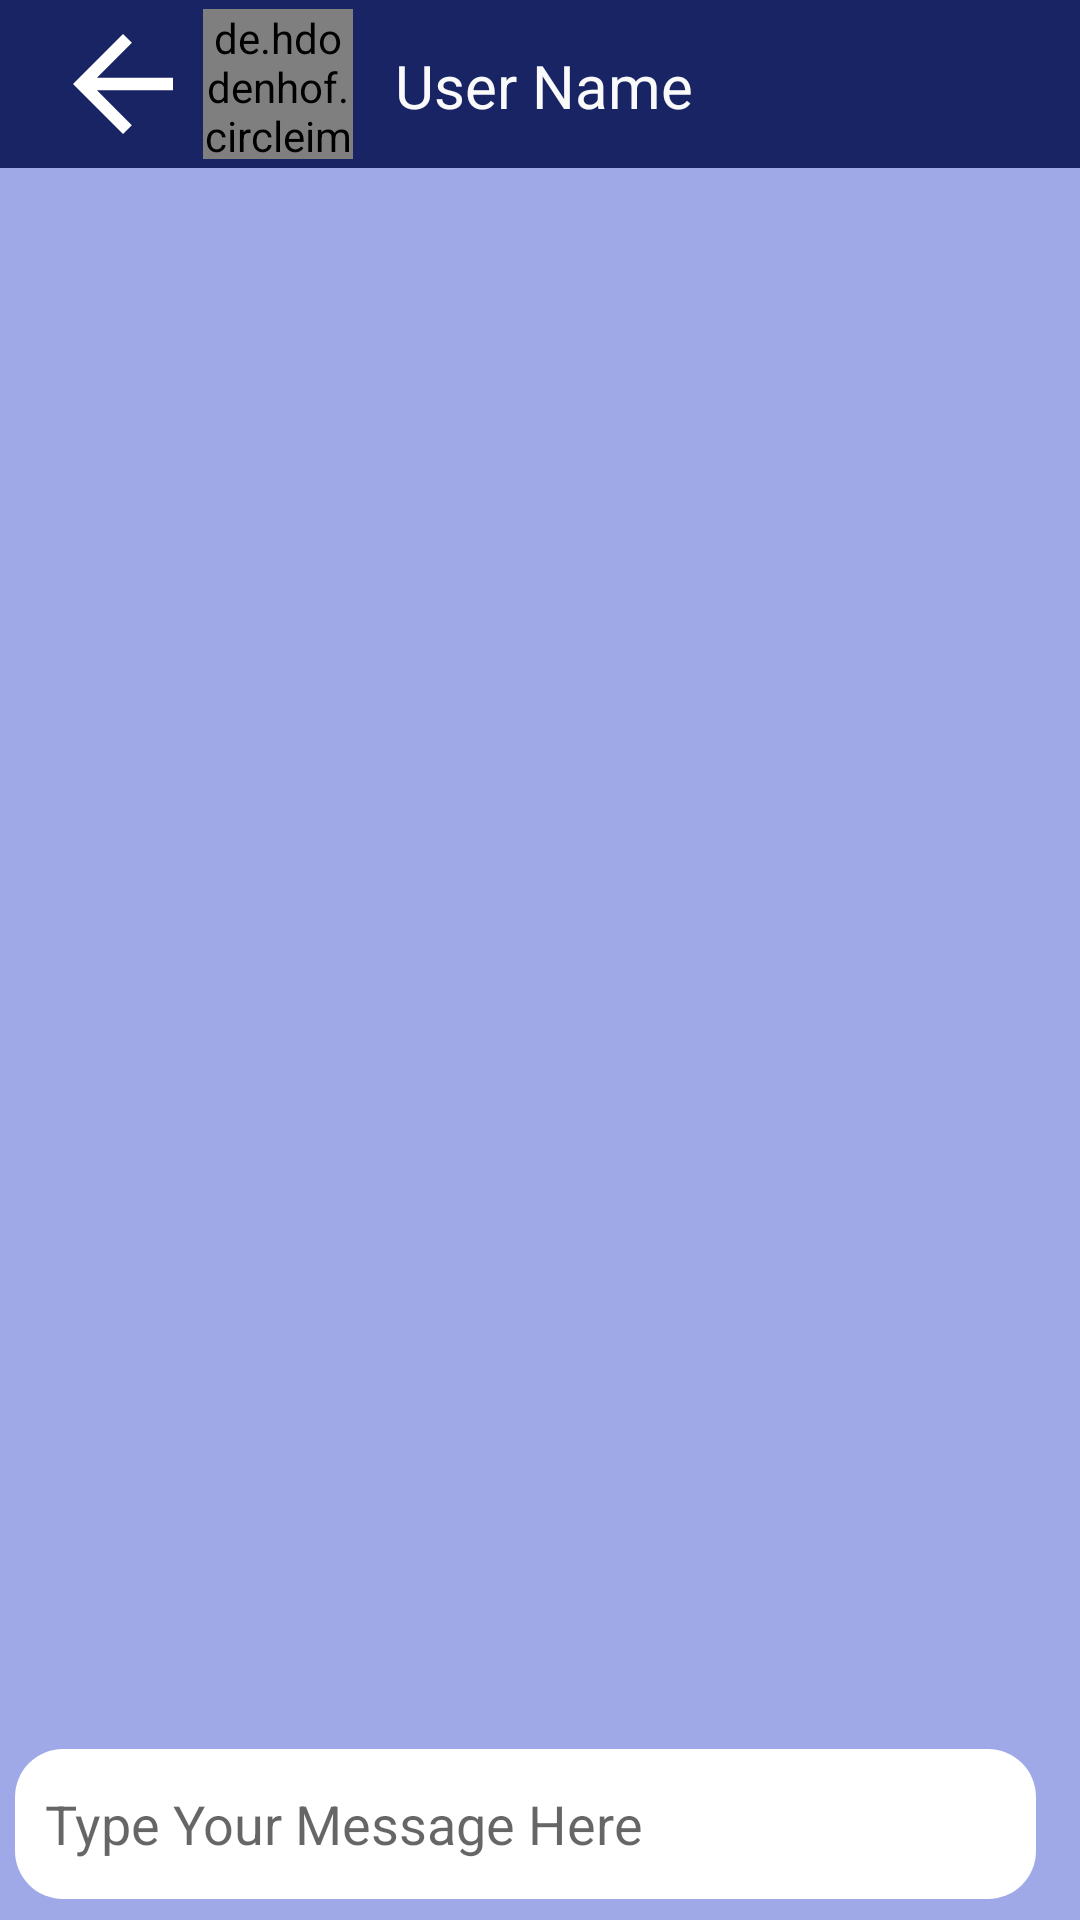

Icon click points for this 1080px x 1920px phone screenshot, format (x=x, y=y):
arrow back: (x=123, y=84)
